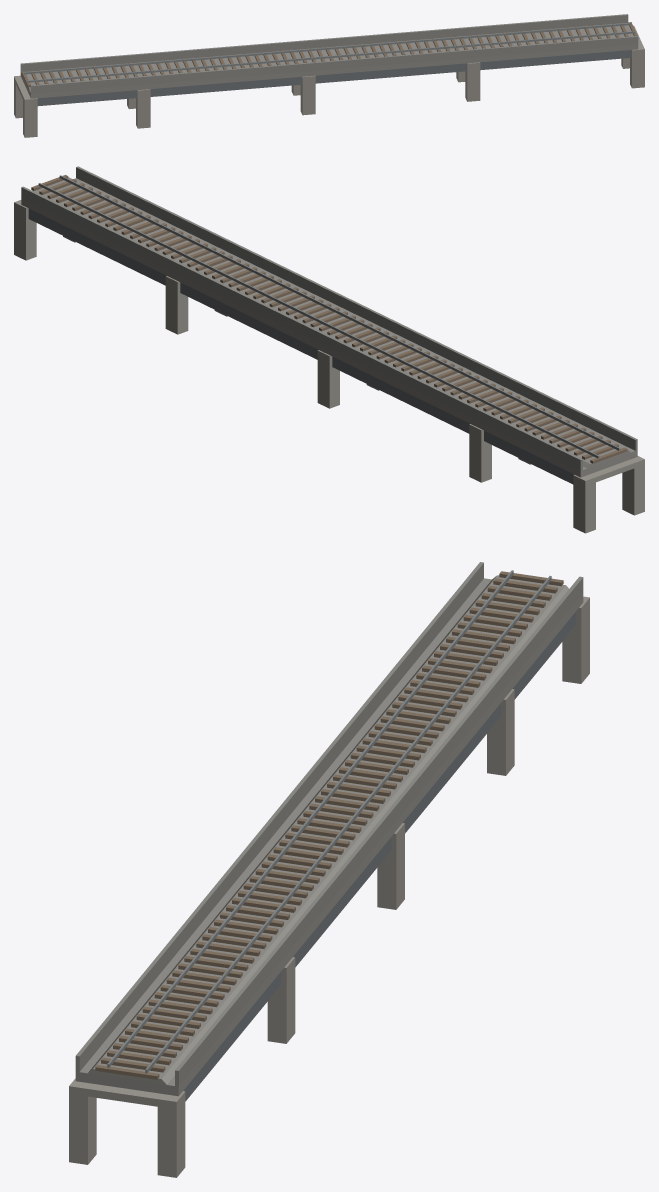
File: rail_01194.glb
3 views of the same model, one above another, from view 1: azimuth 30°, elevation 25°; view 2: azimuth 150°, elevation 25°; view 3: azimuth 270°, elevation 25° (orthographic). The views are drawn at different scales.
Parts seen in each view (by area): view 1: BridgeParapets, BridgeGirders, Ballast, BridgePiers, BridgeDeck, Rails, Sleepers; view 2: BridgeParapets, Sleepers, BridgePiers, Ballast, BridgeDeck, BridgeGirders, Rails; view 3: Sleepers, BridgeParapets, Ballast, BridgePiers, BridgeDeck, Rails, BridgeGirders.
Part boxes in pixels (x1,y1,x2,y2): BridgeParapets: [20, 14, 638, 93]; BridgeGirders: [37, 50, 631, 106]; Ballast: [26, 25, 633, 91]; BridgePiers: [14, 25, 644, 137]; BridgeDeck: [20, 23, 638, 98]; Rails: [24, 23, 634, 82]; Sleepers: [21, 22, 637, 86]; BridgeParapets: [21, 166, 637, 470]; Sleepers: [31, 175, 627, 463]; BridgePiers: [14, 200, 644, 533]; Ballast: [32, 177, 630, 468]; BridgeDeck: [21, 178, 637, 477]; BridgeGirders: [28, 208, 635, 484]; Rails: [38, 175, 620, 458]; Sleepers: [95, 571, 563, 1079]; BridgeParapets: [75, 562, 583, 1086]; Ballast: [88, 575, 568, 1084]; BridgePiers: [69, 596, 589, 1177]; BridgeDeck: [75, 578, 583, 1096]; Rails: [107, 570, 551, 1073]; BridgeGirders: [183, 611, 576, 1101].
Bounding box in the file's own units: 44.03 × 4 × 18.64.
